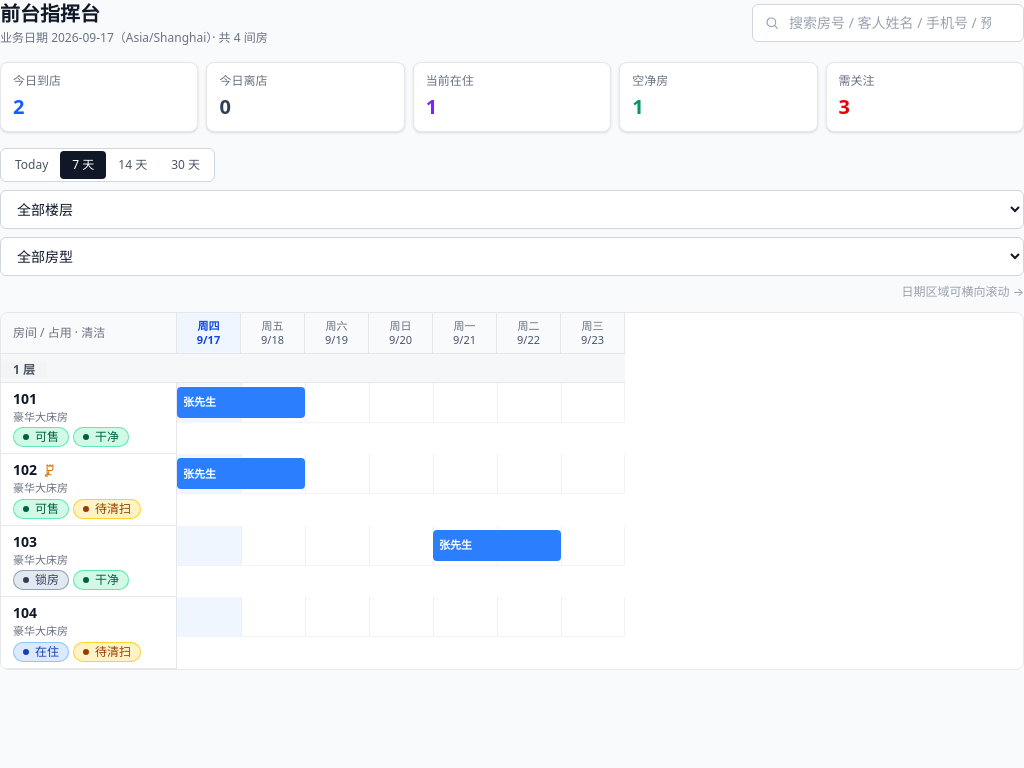
Scenario: Search › 预订单号 → 打开 Reservation Drawer
Expected: the button "需关注 3" is shown, [826,62,1023,132]
Type "RSV-FDV-0003" into the field named "搜索房号、客人、预订单号".
click(888, 23); type("RSV-FDV-0003")  # box [752,4,1023,42]
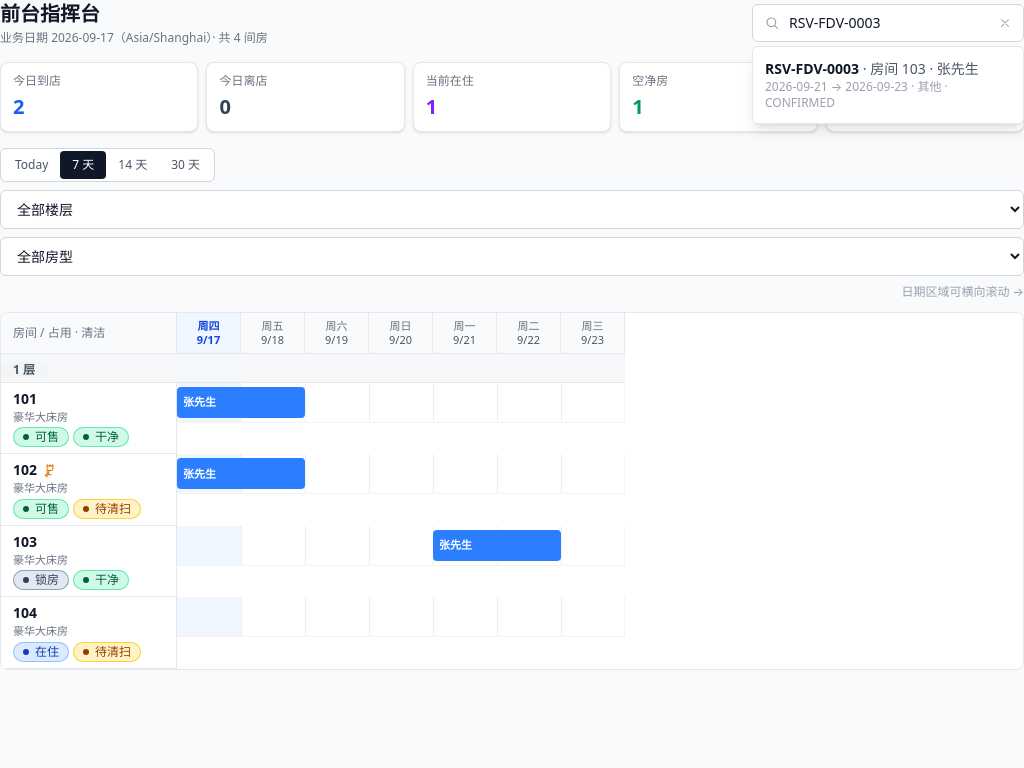
Expected: the button that starts with "RSV-FDV-0003" is shown
Click the button that starts with "RSV-FDV-0003".
click(888, 85)  # box [753,51,1023,119]
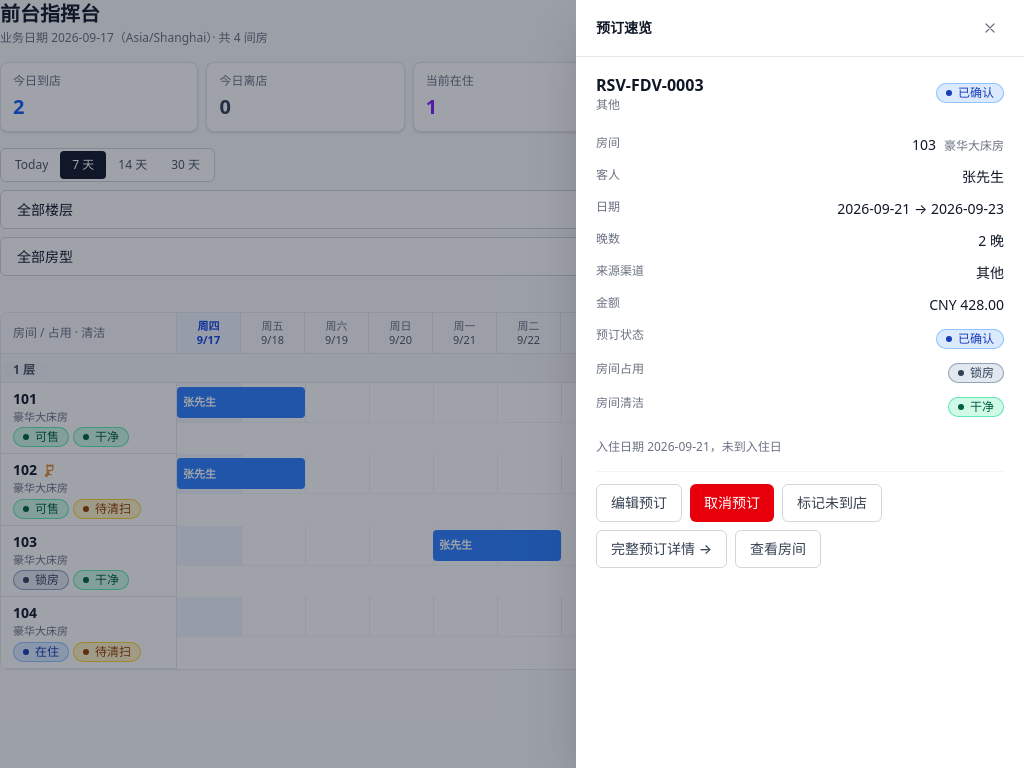
Expected: the text "2 晚" is shown, [978,231,1004,251]
